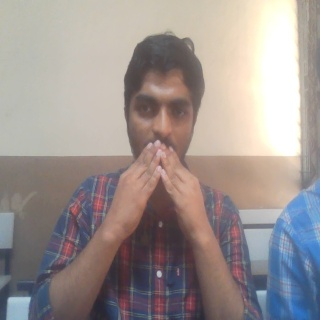Thank You: (107, 138, 216, 249)
